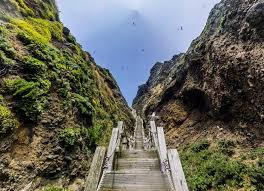mountain: (3, 3, 120, 183), (147, 2, 264, 182)
